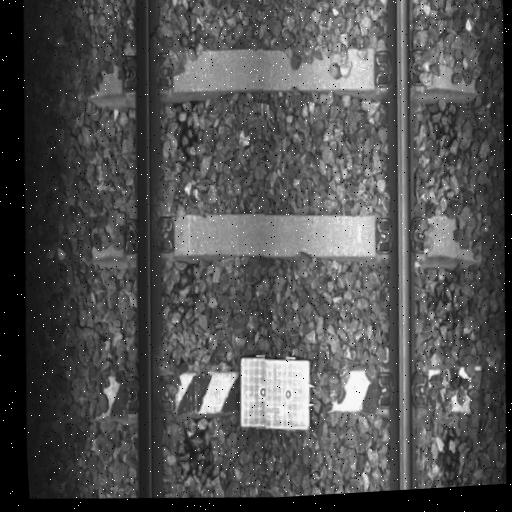clip: (372, 34, 434, 99), (122, 34, 175, 101), (121, 205, 176, 268), (373, 208, 433, 265), (123, 363, 175, 420), (378, 363, 431, 416)
sleeper: (78, 3, 481, 122), (79, 181, 483, 291), (81, 338, 487, 441)
